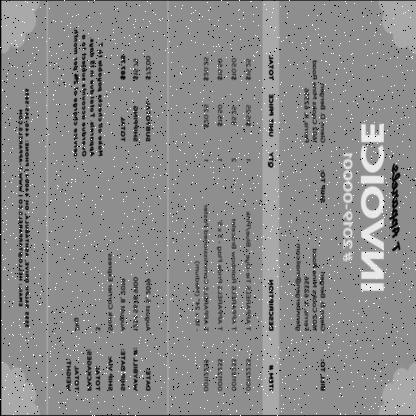Paragraph: (60, 249, 154, 398), (338, 119, 404, 298), (290, 238, 328, 396), (68, 23, 106, 162), (13, 83, 33, 333), (298, 53, 328, 208), (116, 50, 154, 148)
Table: (188, 47, 279, 403)
